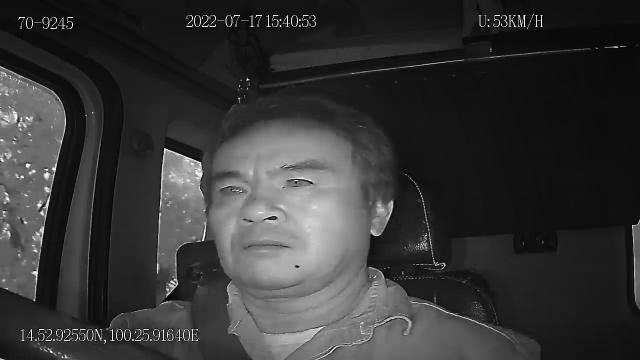SafeDriving: (271, 164, 328, 195), (212, 173, 255, 204)
Seatbelt: (188, 270, 256, 360)
